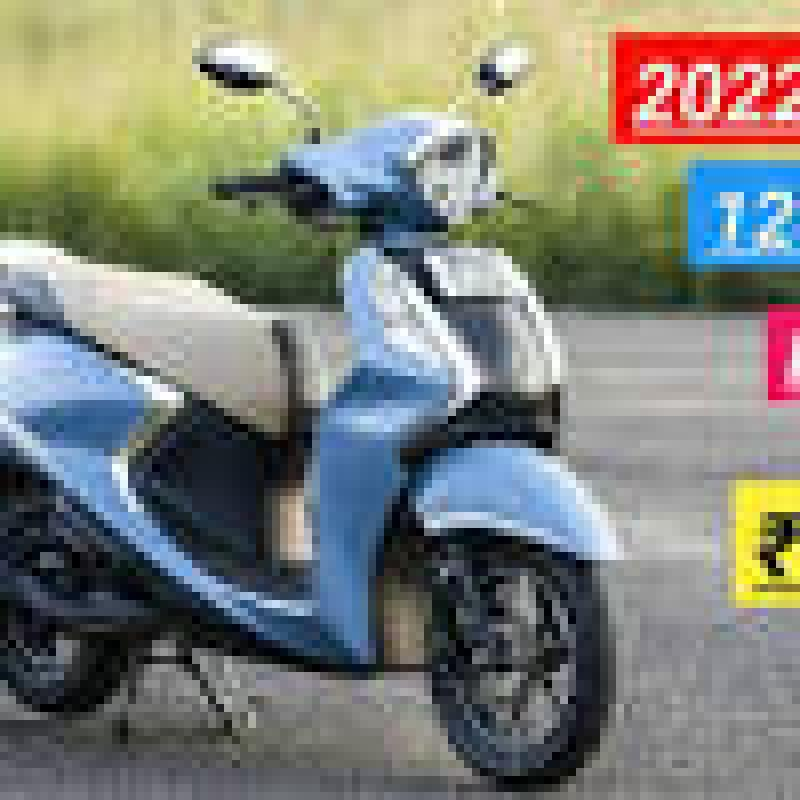bike: (7, 2, 644, 798)
